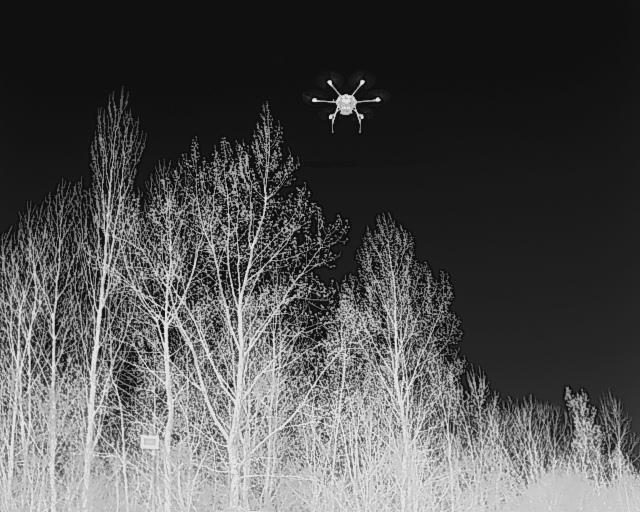drone: (299, 73, 386, 149)
